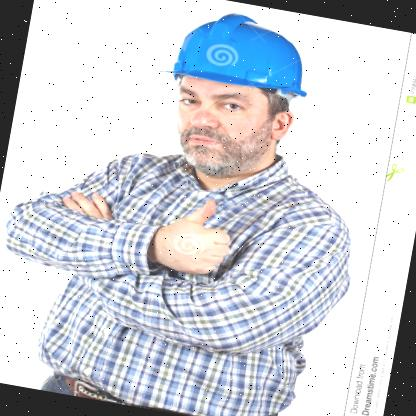capacete: (141, 0, 324, 189)
sem_colete_refletivo: (0, 120, 376, 415)
